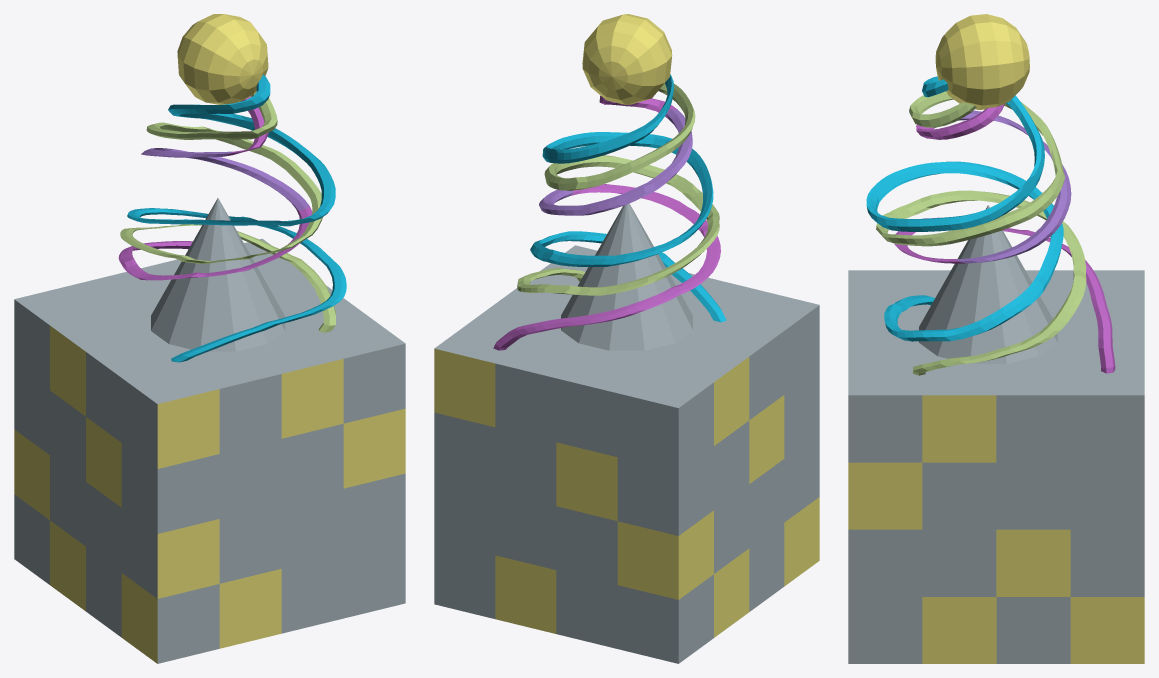
File: KunstHausGelb.fbx
3 renders of one model, left to right at view 1: azimuth 30°, elevation 25°; view 2: azimuth 150°, elevation 25°; view 3: azimuth 270°, elevation 25°, orthographic. The views are drawn at different scales.
Visible parts, largest first — view 1: mesh_705144847, group_550851454, group_1324222474, group_1786026587; view 2: mesh_705144847, group_550851454, group_1786026587, group_1324222474; view 3: mesh_705144847, group_550851454, group_1324222474, group_1786026587.
Part boxes in pixels (left/top/right/bottom): mesh_705144847: left=14, top=14, right=405, bottom=663; group_550851454: left=127, top=74, right=346, bottom=362; group_1324222474: left=120, top=91, right=335, bottom=332; group_1786026587: left=118, top=96, right=312, bottom=280; mesh_705144847: left=434, top=14, right=819, bottom=663; group_550851454: left=530, top=74, right=726, bottom=322; group_1786026587: left=493, top=95, right=720, bottom=350; group_1324222474: left=517, top=83, right=719, bottom=295; mesh_705144847: left=848, top=14, right=1144, bottom=663; group_550851454: left=866, top=76, right=1063, bottom=341; group_1324222474: left=876, top=91, right=1086, bottom=375; group_1786026587: left=894, top=104, right=1115, bottom=373.
Bounding box in the file's own units: 201 × 437 × 201.
